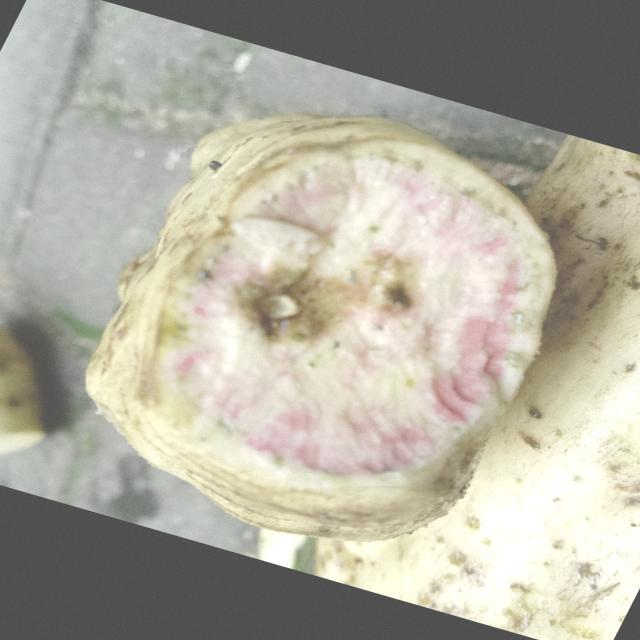Sick Sweet Potato_Tuber Rot: (163, 155, 538, 475)
